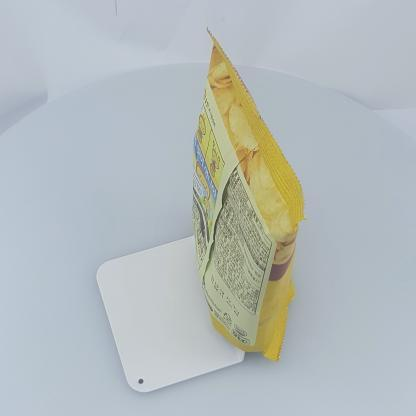Plastic Packaging: (178, 18, 336, 366)
